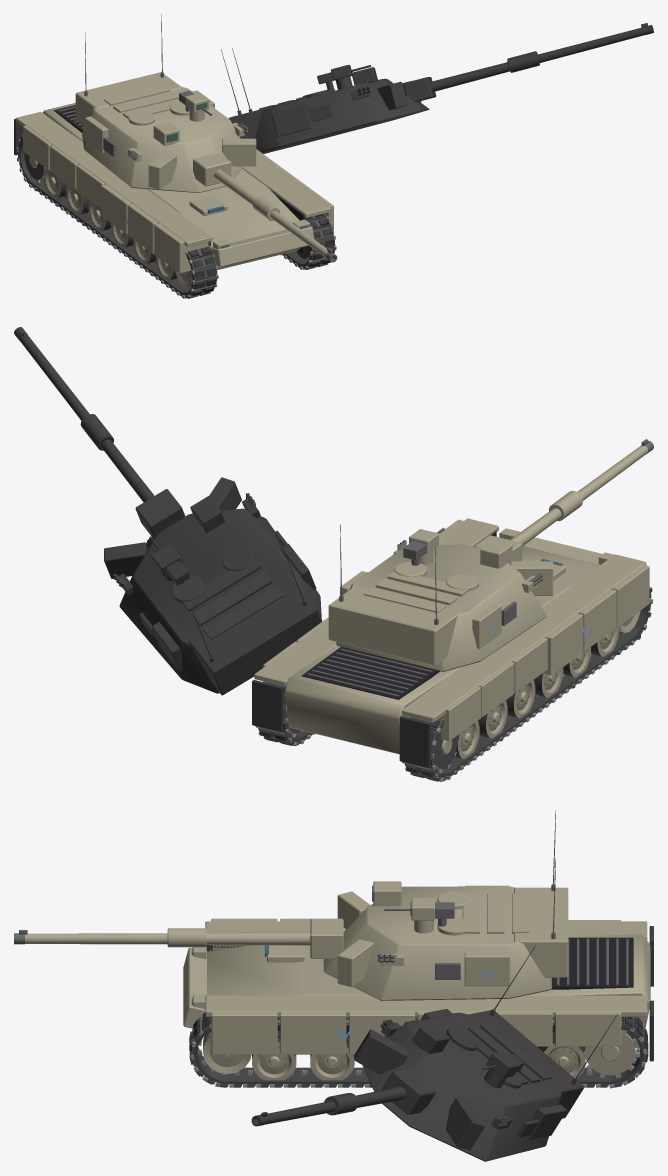
The model's file is tank__k2_black_panther.glb.
The picture shows the model from 3 angles, top to bottom: view 1: azimuth 30°, elevation 25°; view 2: azimuth 150°, elevation 25°; view 3: azimuth 270°, elevation 25°; orthographic projection. The views are drawn at different scales.
Visible parts, largest first — view 1: Hull_Mesh, Wreck, Turret_Mesh, Track_L_Mesh, Gun_Mesh, Track_R_Mesh, CITV_Mesh, Gunner_Sight_Mesh, Wheel_L0_Mesh, Wheel_L1_Mesh; view 2: Hull_Mesh, Wreck, Turret_Mesh, Track_L_Mesh, Gun_Mesh, Track_R_Mesh, Gunner_Sight_Mesh, Wheel_L1_Mesh, Wheel_L2_Mesh, Sprocket_L_Mesh; view 3: Hull_Mesh, Wreck, Turret_Mesh, Gun_Mesh, Track_R_Mesh, Sprocket_R_Mesh, Wheel_R5_Mesh, Wheel_R4_Mesh, Wheel_R0_Mesh, Idler_R_Mesh, CITV_Mesh, Gunner_Sight_Mesh.
Part boxes in pixels (box(x1,y1,x2,y2)): Hull_Mesh: box(14, 103, 333, 273); Wreck: box(16, 23, 653, 298); Turret_Mesh: box(75, 72, 256, 192); Track_L_Mesh: box(16, 134, 218, 298); Gun_Mesh: box(193, 153, 337, 262); Track_R_Mesh: box(280, 213, 336, 269); CITV_Mesh: box(185, 93, 209, 121); Gunner_Sight_Mesh: box(153, 122, 179, 145); Wheel_L0_Mesh: box(43, 167, 67, 198); Wheel_L1_Mesh: box(66, 184, 89, 214); Hull_Mesh: box(252, 518, 649, 768); Wreck: box(14, 327, 652, 780); Turret_Mesh: box(328, 537, 553, 671); Track_L_Mesh: box(402, 586, 653, 781); Gun_Mesh: box(474, 439, 653, 563); Track_R_Mesh: box(255, 682, 315, 745); Gunner_Sight_Mesh: box(480, 539, 512, 568); Wheel_L1_Mesh: box(478, 700, 507, 738); Wheel_L2_Mesh: box(506, 680, 535, 718); Sprocket_L_Mesh: box(434, 731, 458, 773); Hull_Mesh: box(183, 918, 653, 1061); Wreck: box(189, 945, 644, 1161); Turret_Mesh: box(323, 885, 568, 1000); Gun_Mesh: box(14, 918, 343, 958); Track_R_Mesh: box(189, 1014, 648, 1088); Sprocket_R_Mesh: box(583, 1029, 639, 1078); Wheel_R5_Mesh: box(252, 1031, 296, 1080); Wheel_R4_Mesh: box(310, 1036, 354, 1080); Wheel_R0_Mesh: box(541, 1032, 585, 1077); Idler_R_Mesh: box(203, 1031, 251, 1073); CITV_Mesh: box(410, 898, 434, 933); Gunner_Sight_Mesh: box(372, 881, 401, 906).
Size of what is drawn, in the model's own units: 11.87 by 3.76 by 10.37.
